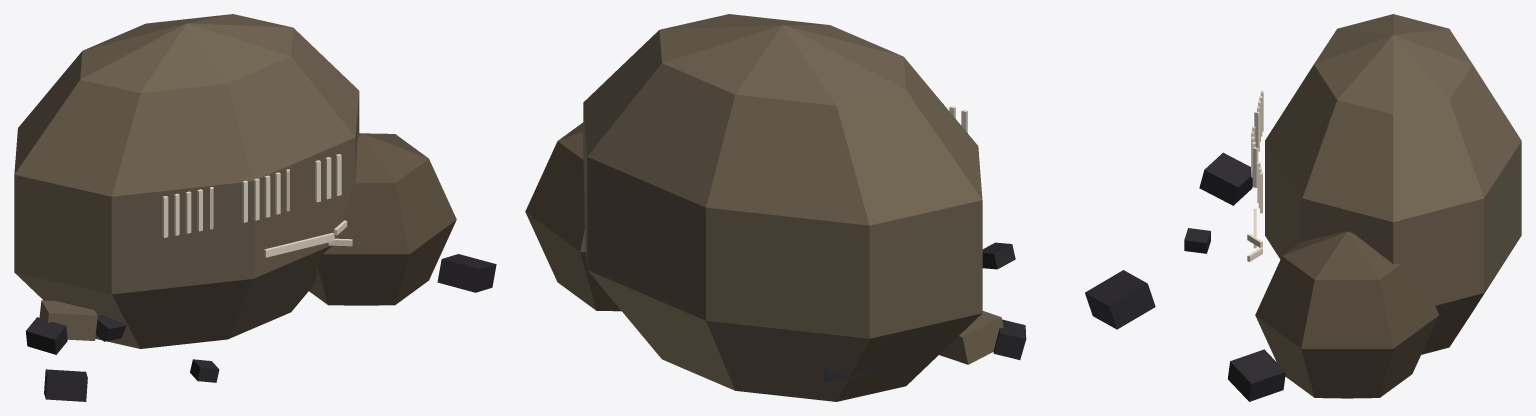
The model's file is soegol_chalk_rock.glb.
The picture shows the model from 3 angles, left to right: view 1: azimuth 30°, elevation 25°; view 2: azimuth 150°, elevation 25°; view 3: azimuth 270°, elevation 25°; orthographic projection. The views are drawn at different scales.
Visible parts, largest first — view 1: soegol_chalk_rock; view 2: soegol_chalk_rock; view 3: soegol_chalk_rock.
Part boxes in pixels (x1,y1,x2,y2): soegol_chalk_rock: [14, 14, 496, 401]; soegol_chalk_rock: [525, 14, 1155, 401]; soegol_chalk_rock: [1184, 14, 1521, 401].
Size of the model in its own units: 3.41 by 2.2 by 2.2.
